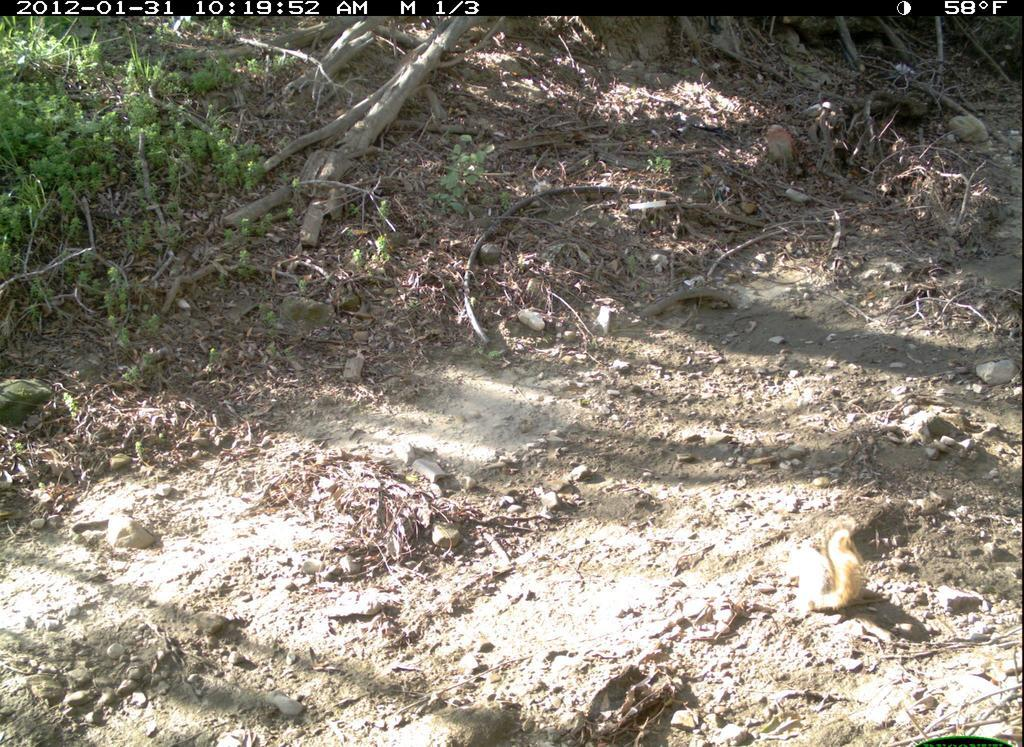squirrel: (776, 510, 875, 644)
